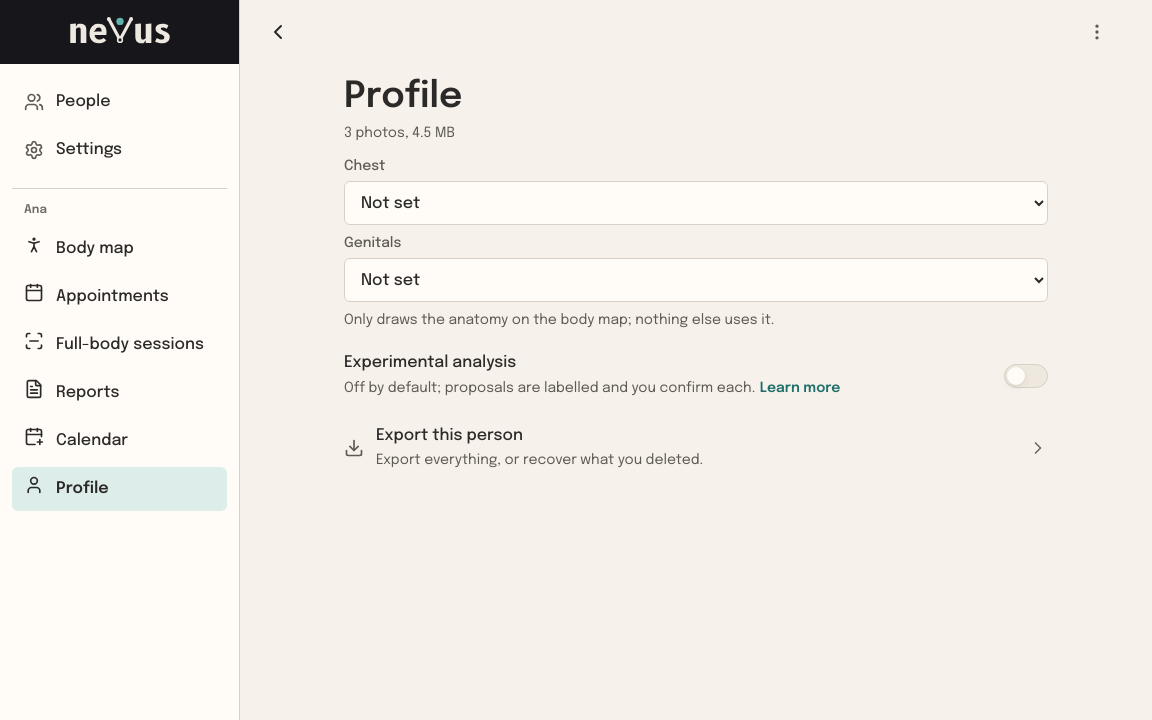
exports › refuses to delete a profile until its name is typed
Click the button named "More" at [1097, 32], box 1074,10 -> 1120,54
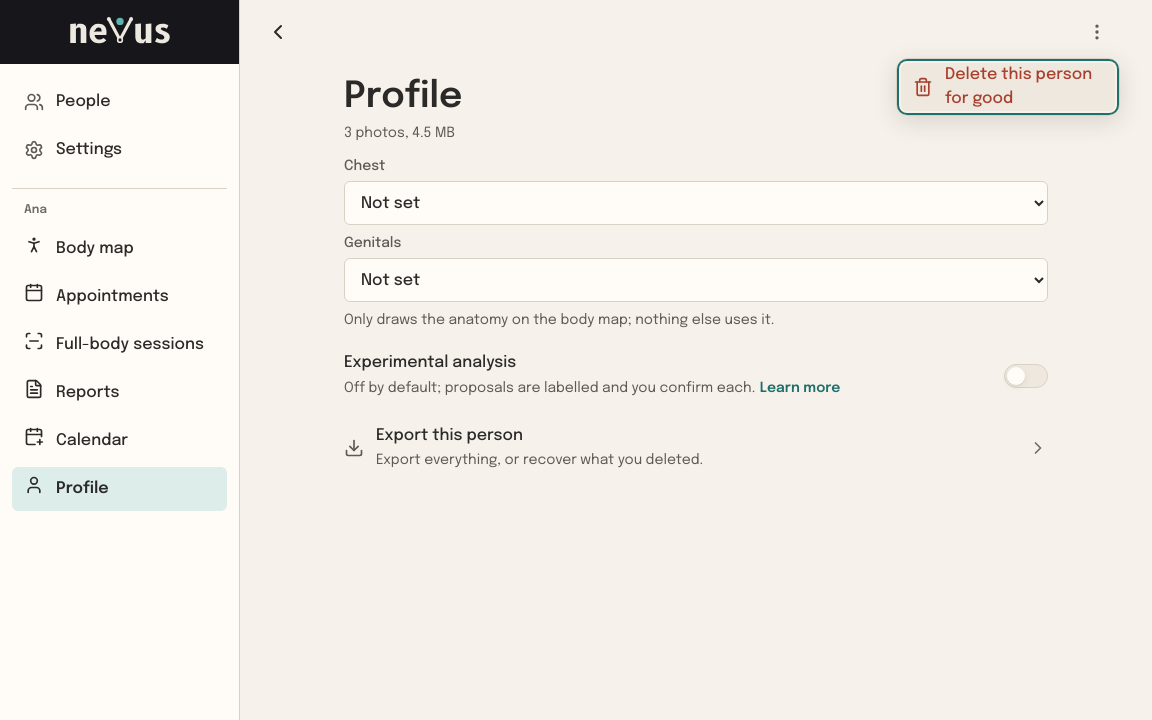
Click the menu item "Delete this person for good" at [1008, 87], box 901,63 -> 1115,111
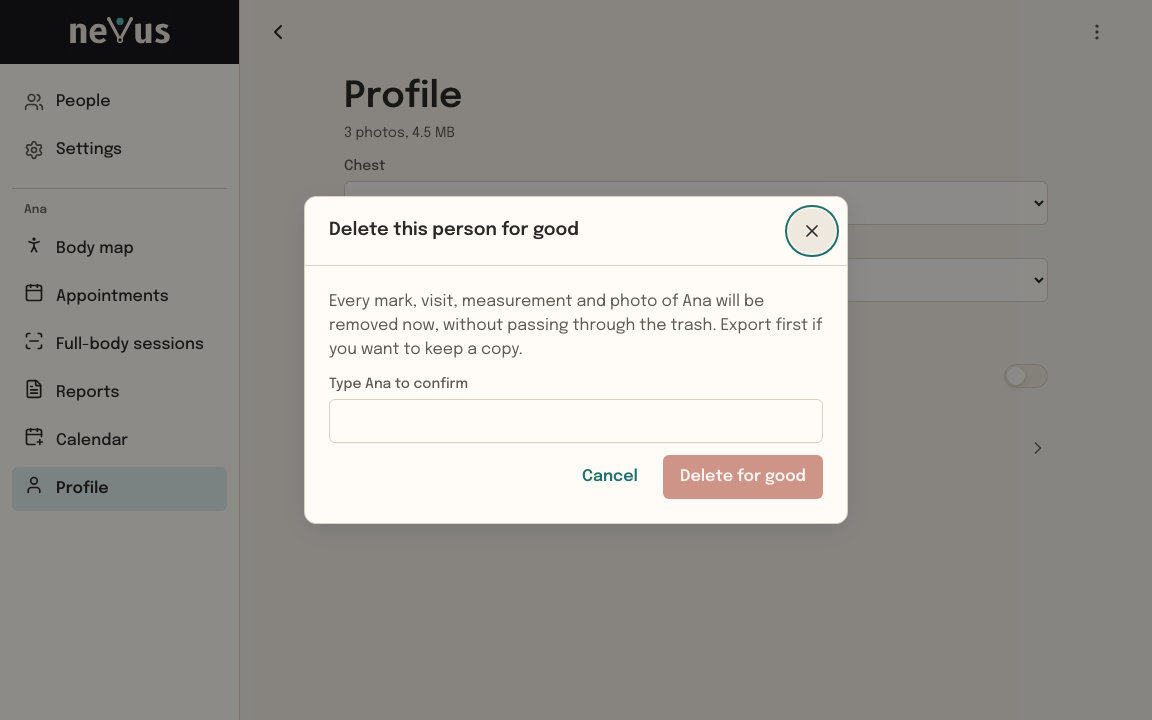
Now the button "Delete for good" is disabled, box 663,455 -> 823,499
Type "Ana" into the field labelled "Type Ana to confirm" at [576, 421], box 329,399 -> 823,443
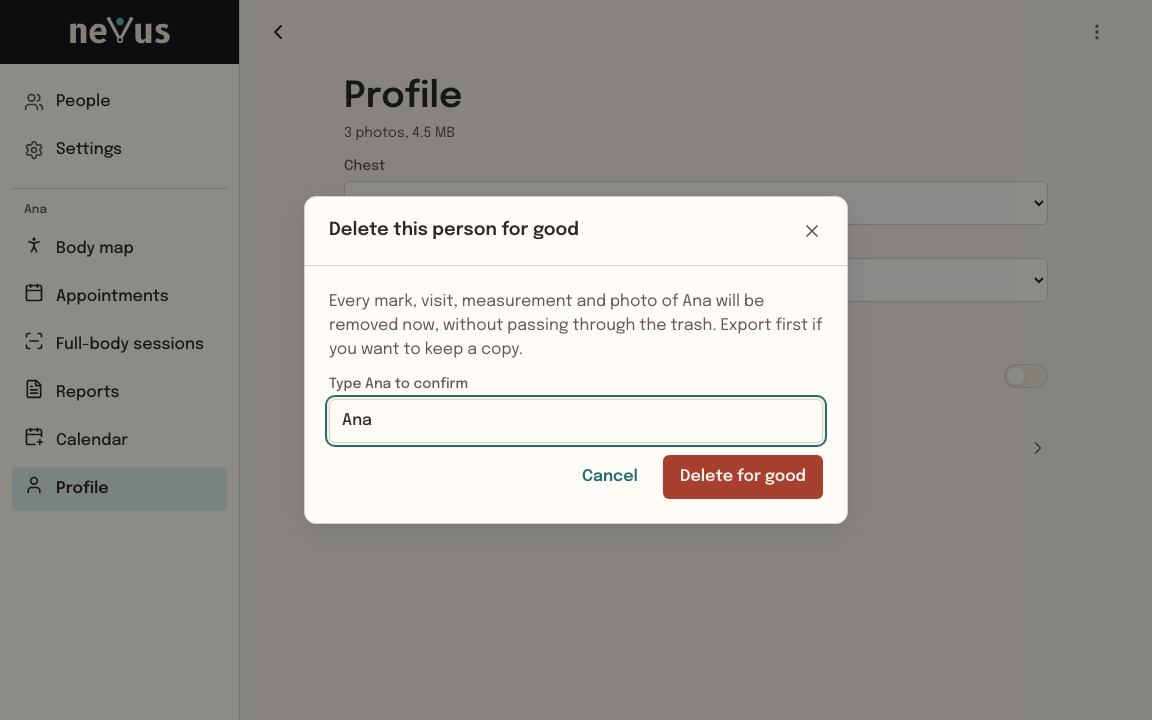
Now the button "Delete for good" is enabled, box 663,455 -> 823,499
